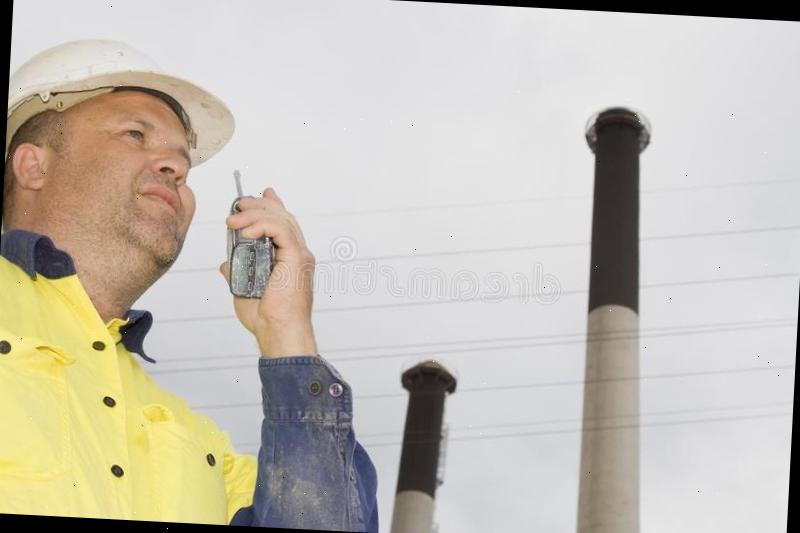helmet: (4, 30, 242, 178)
